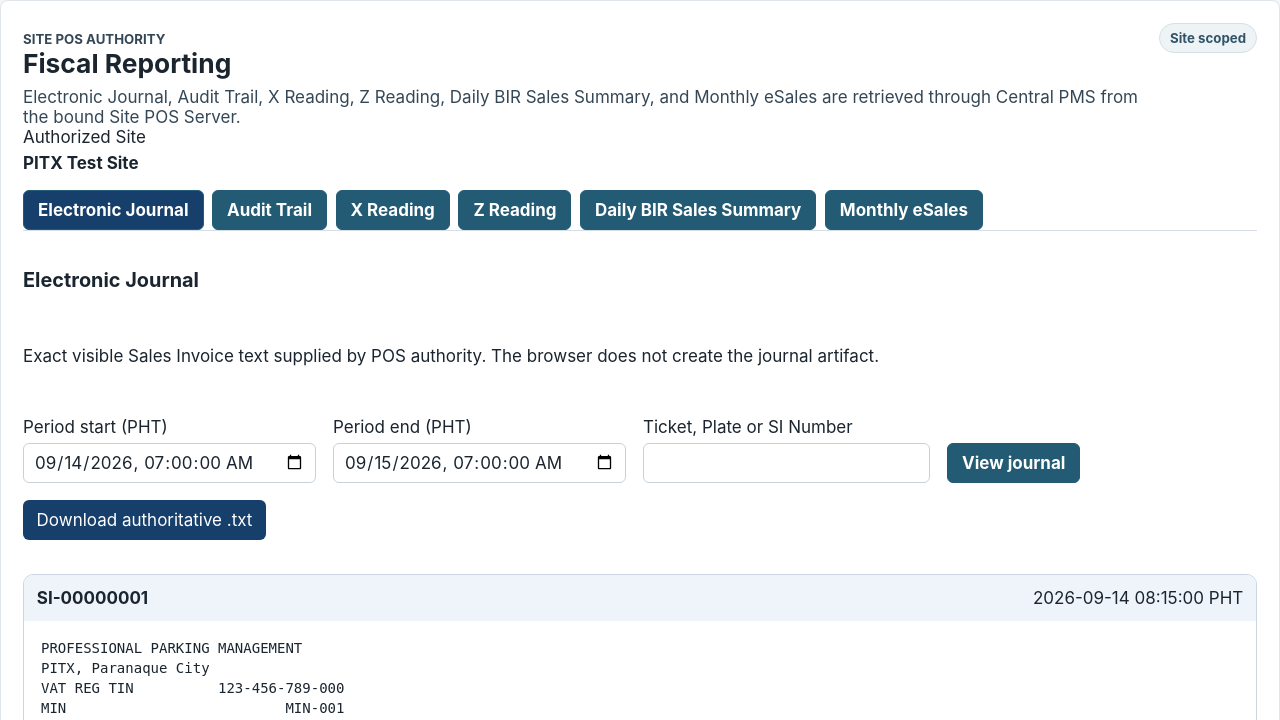
Test: Operator Console fiscal reporting › shows X Reading business date, period boundaries, and generated time in PHT
The image size is (1280, 720).
Step 1. Click the tab "X Reading" → (393, 210), box top-left (336, 190), bottom-right (450, 230)
(page scrolled)
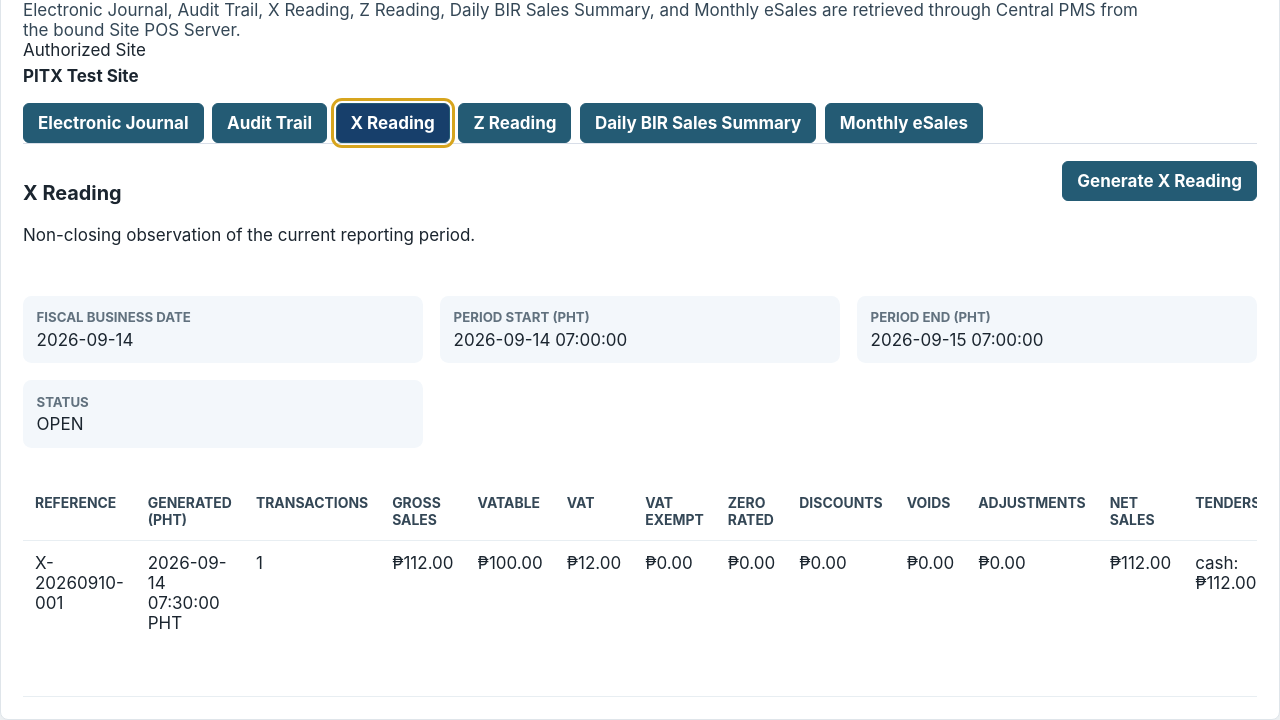
Now the text "Fiscal Business Date" is shown, box top-left (37, 309), bottom-right (191, 325)
Now the text "2026-09-14" is shown, box top-left (37, 330), bottom-right (133, 350)
Now the text "2026-09-14 07:00:00" is shown, box top-left (454, 330), bottom-right (627, 350)
